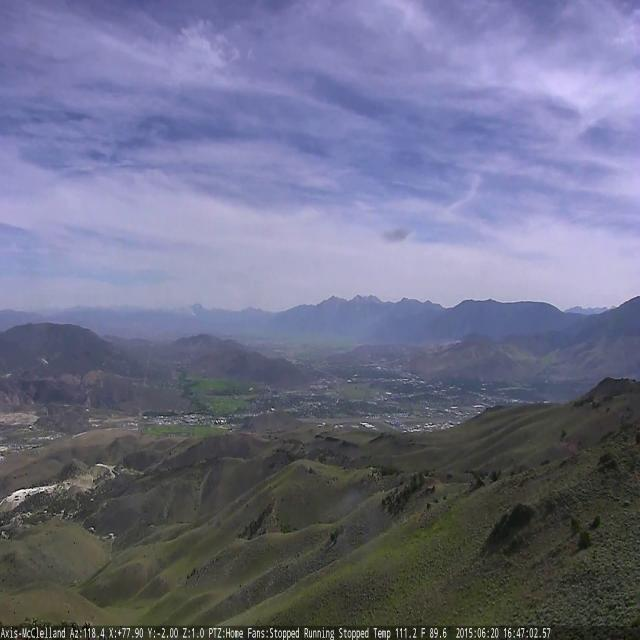smoke: (157, 294, 196, 316)
